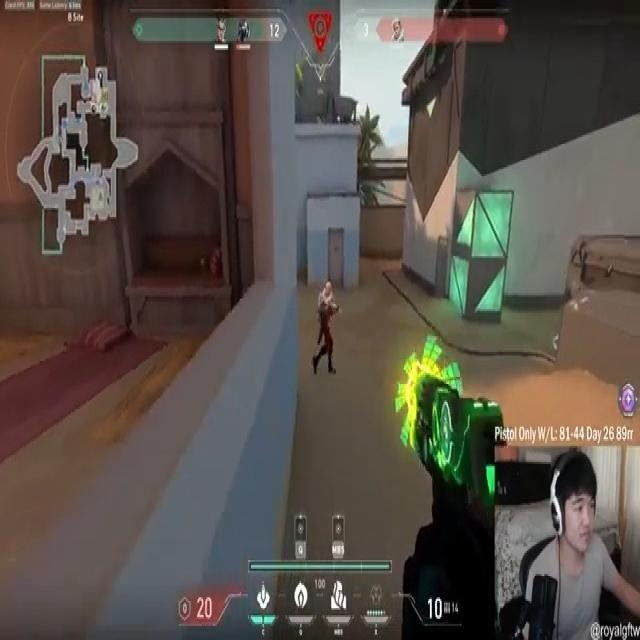enemy: (311, 280, 340, 393)
